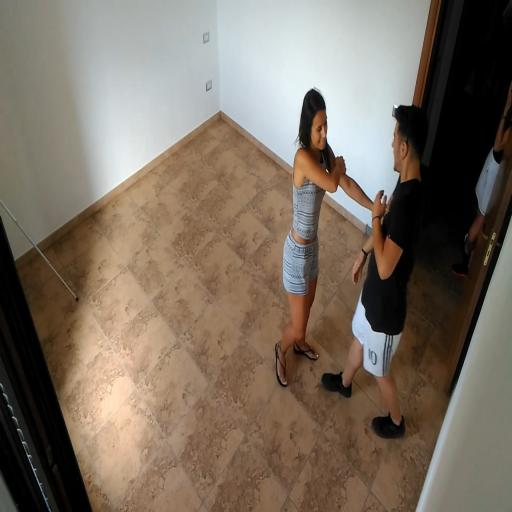empurrar: (273, 79, 431, 447)
